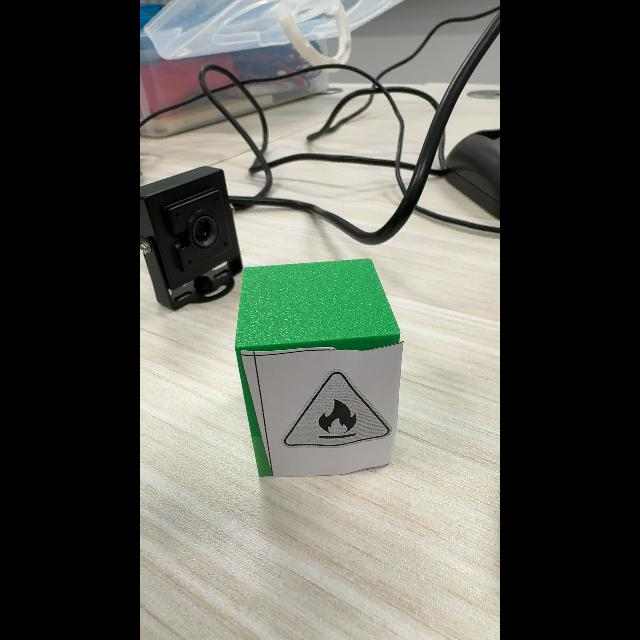Fire: (283, 371, 391, 447)
